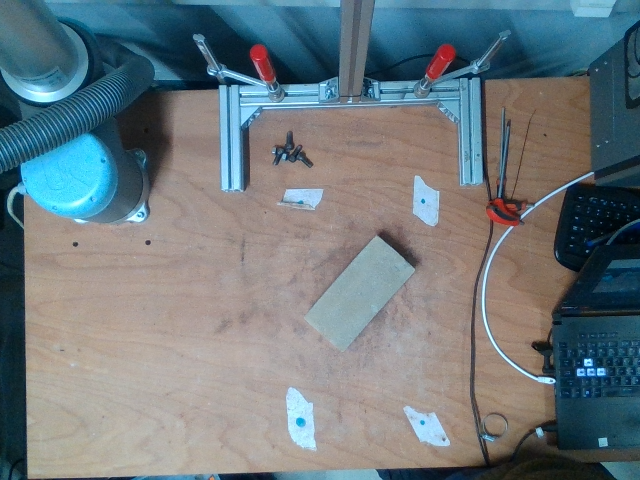brick: (305, 238, 412, 351)
